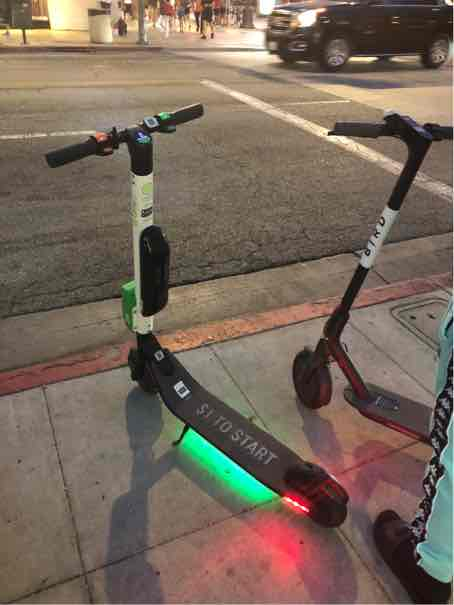scooter: (31, 100, 359, 528)
